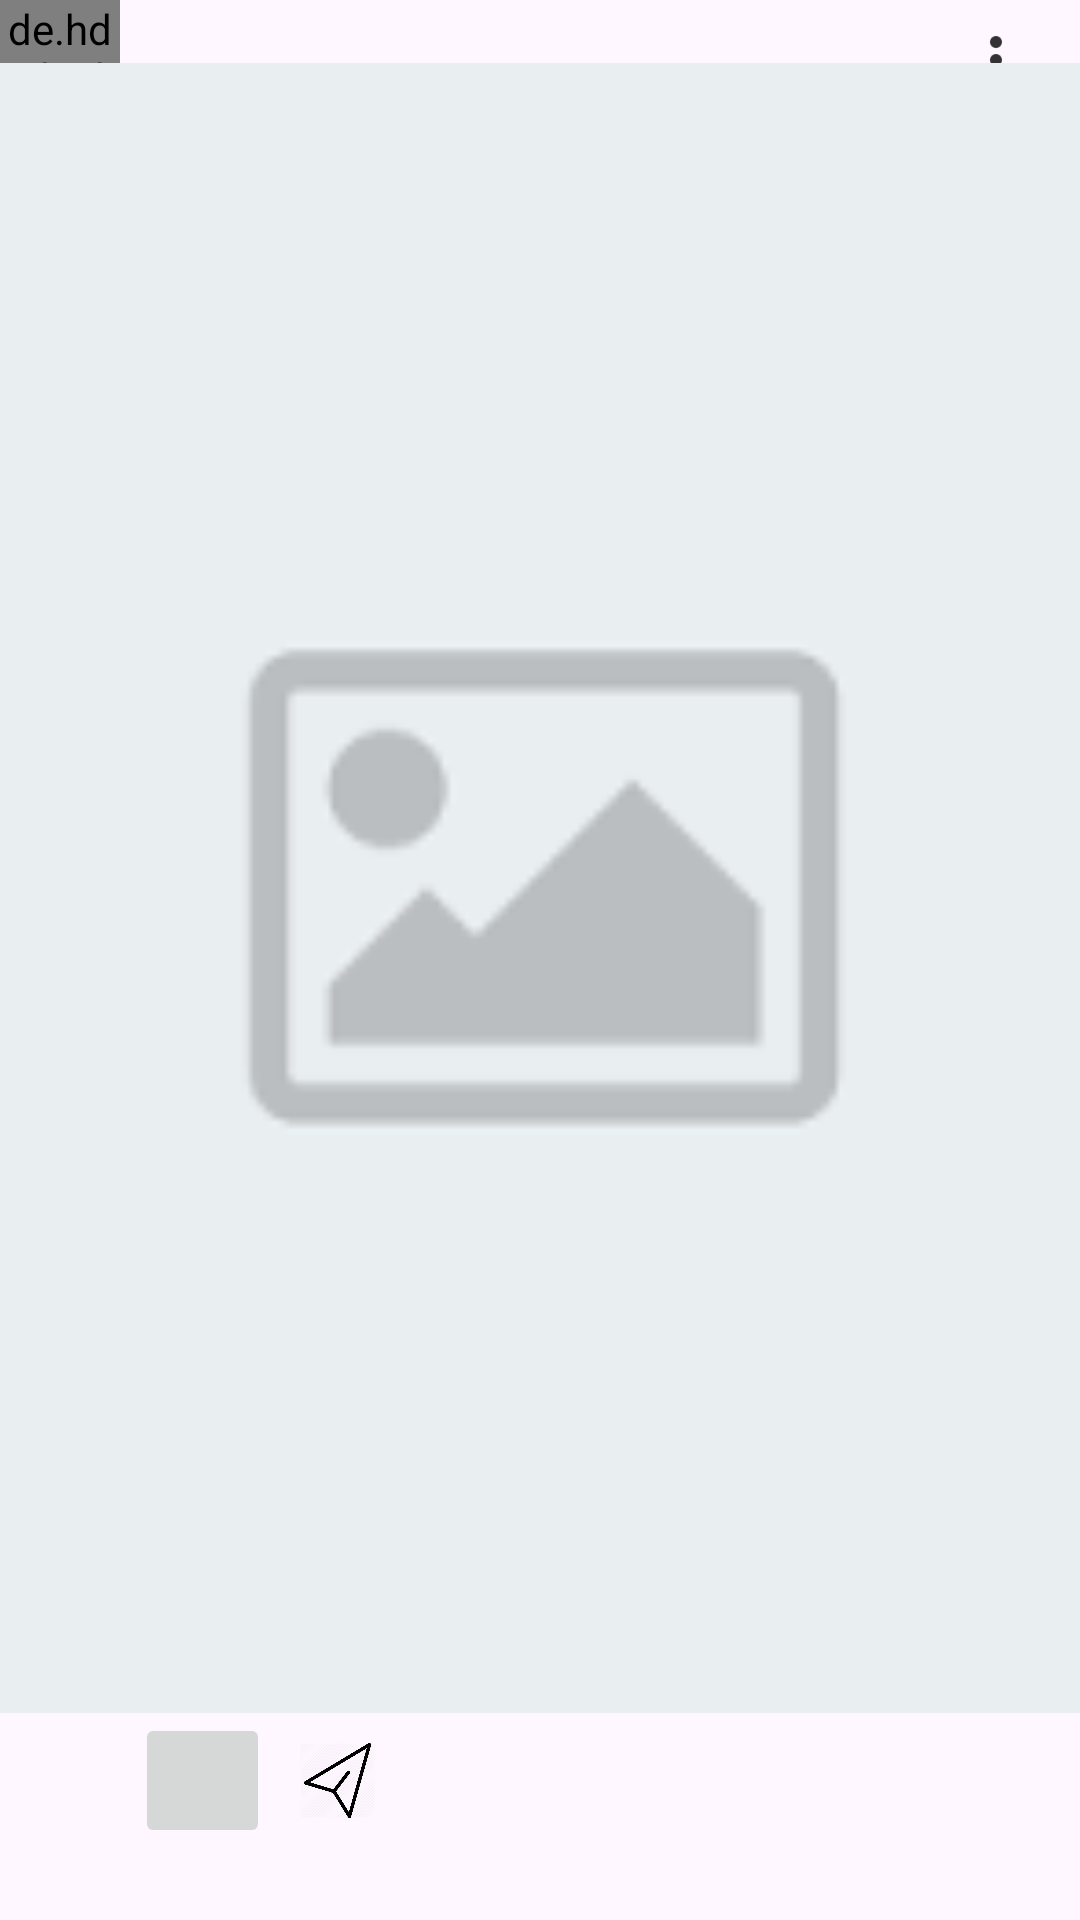

Named icons in this screenshot (1080 x 1920) and their bounding boxes, (x1, y1, x2, y2):
share border: (304, 1743, 371, 1818)
